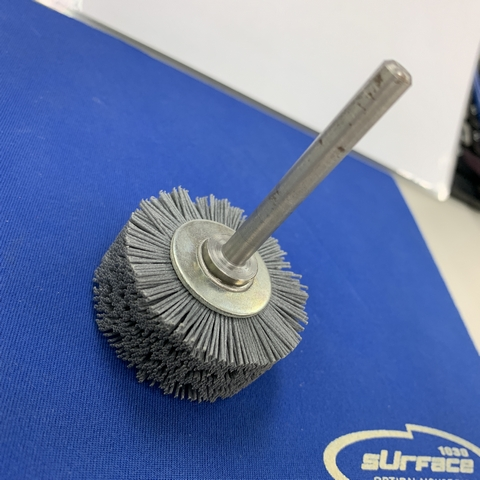Wheel Brush: (65, 38, 430, 422), (90, 60, 415, 404), (82, 78, 330, 408), (94, 64, 312, 402)
